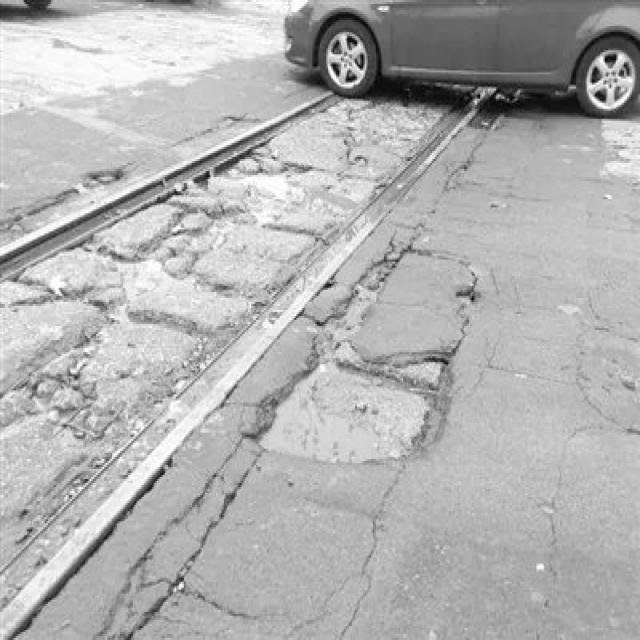Pothole: (0, 100, 472, 598), (258, 254, 500, 473)
